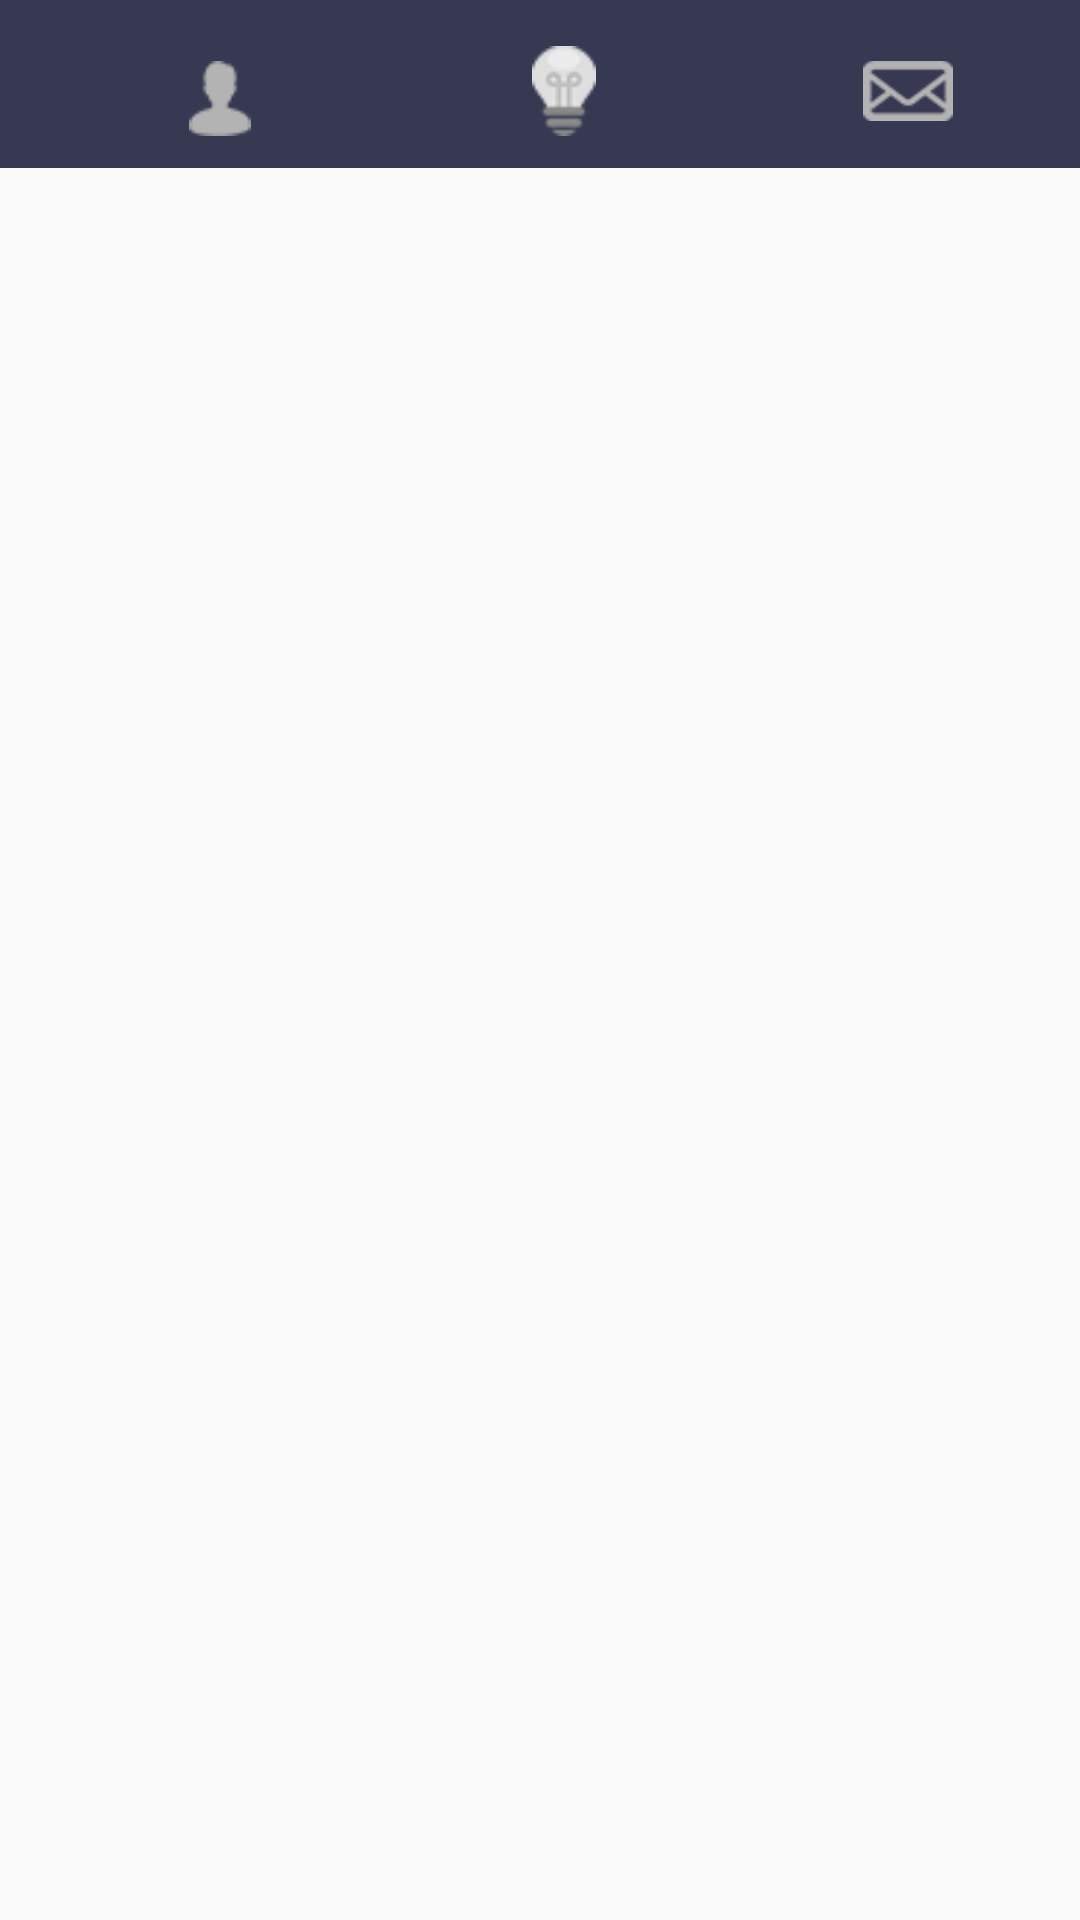

Named icons in this screenshot (1080×1920) and their bounding boxes, {"x1": x1, "y1": y1, "x2": x2, "y2": y2}:
account passive: {"x1": 189, "y1": 61, "x2": 251, "y2": 136}
message passive: {"x1": 863, "y1": 61, "x2": 953, "y2": 121}
